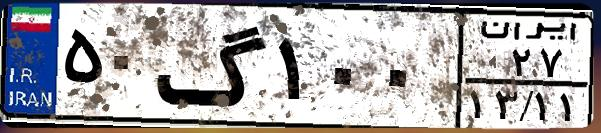0: (385, 28, 445, 110), (330, 28, 385, 110), (110, 28, 156, 98)
1: (270, 28, 330, 110), (560, 70, 590, 125), (470, 70, 495, 125), (535, 70, 560, 125)
2: (508, 27, 537, 80)
3: (495, 70, 520, 125)
5: (57, 26, 110, 100)
7: (537, 27, 568, 80)
گ: (156, 12, 270, 120)
